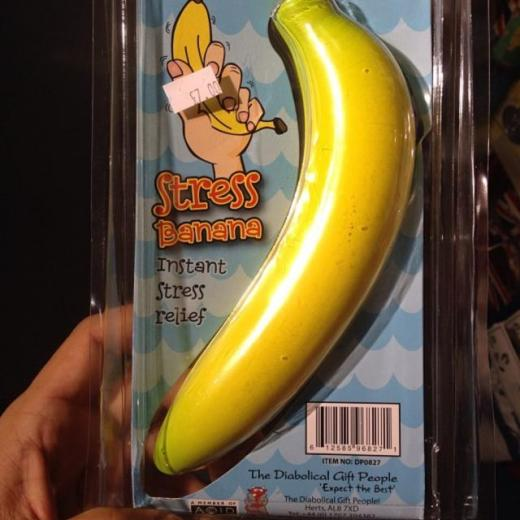Banana: (141, 0, 415, 486), (170, 1, 288, 132)
